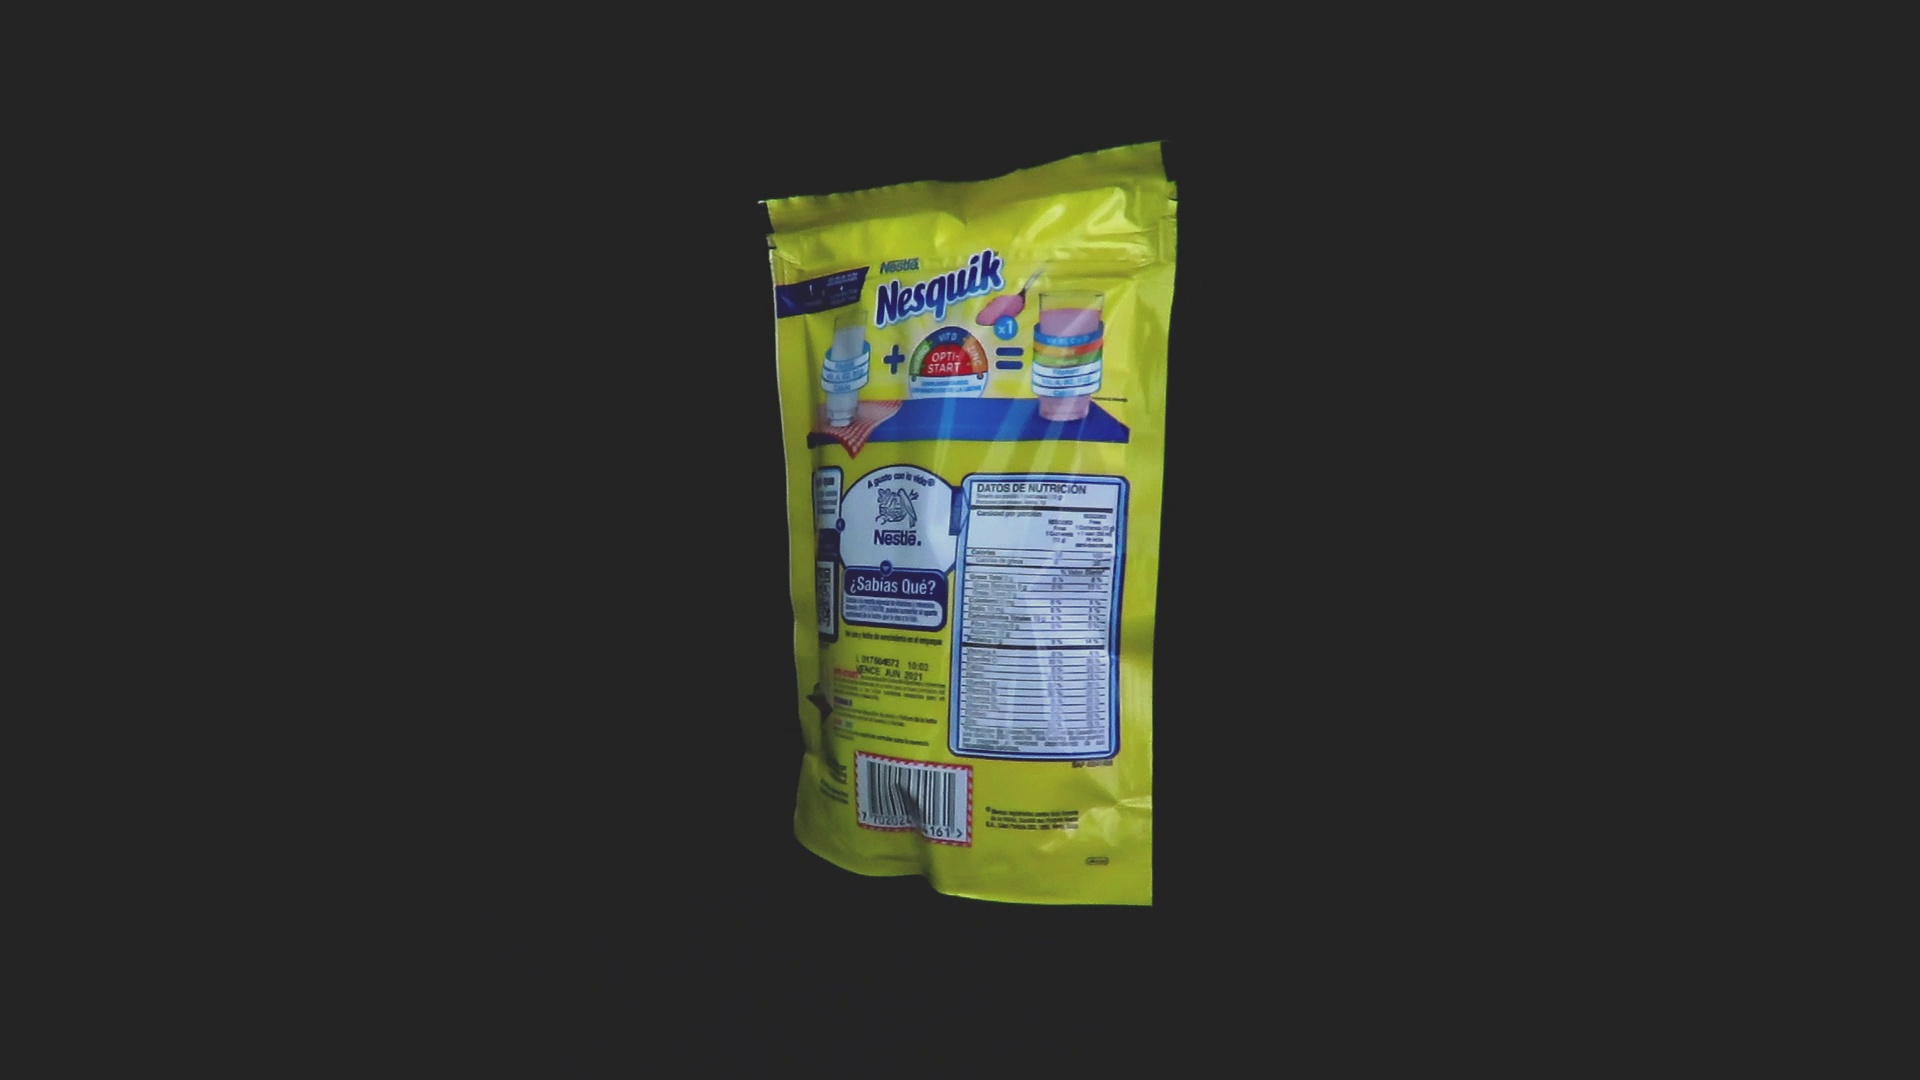COL0170305DYP20000: (752, 135, 1184, 913)
